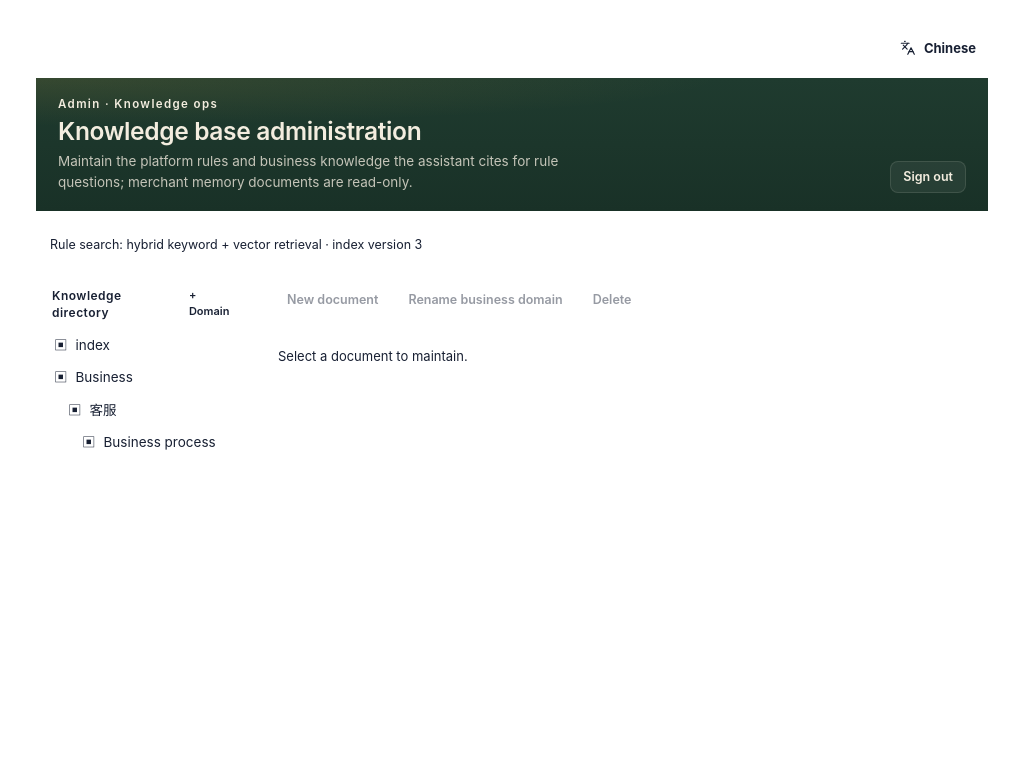
Test: KnowledgeBaseView en-US 下确定性文案为英文 › 新建文档对话框标题、标签与占位提示均为英文
Click the button "▣ Business process".
click(148, 443)  # box [46, 427, 250, 459]
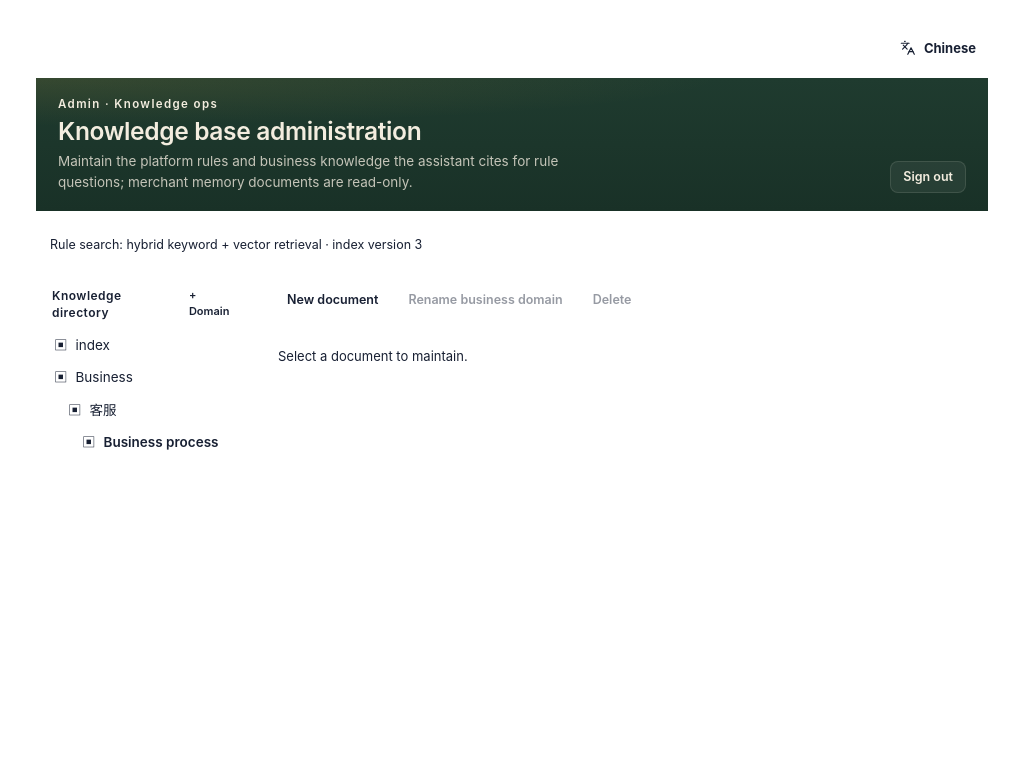
Click the button with test id "create-document".
click(333, 300)  # box [276, 285, 389, 315]
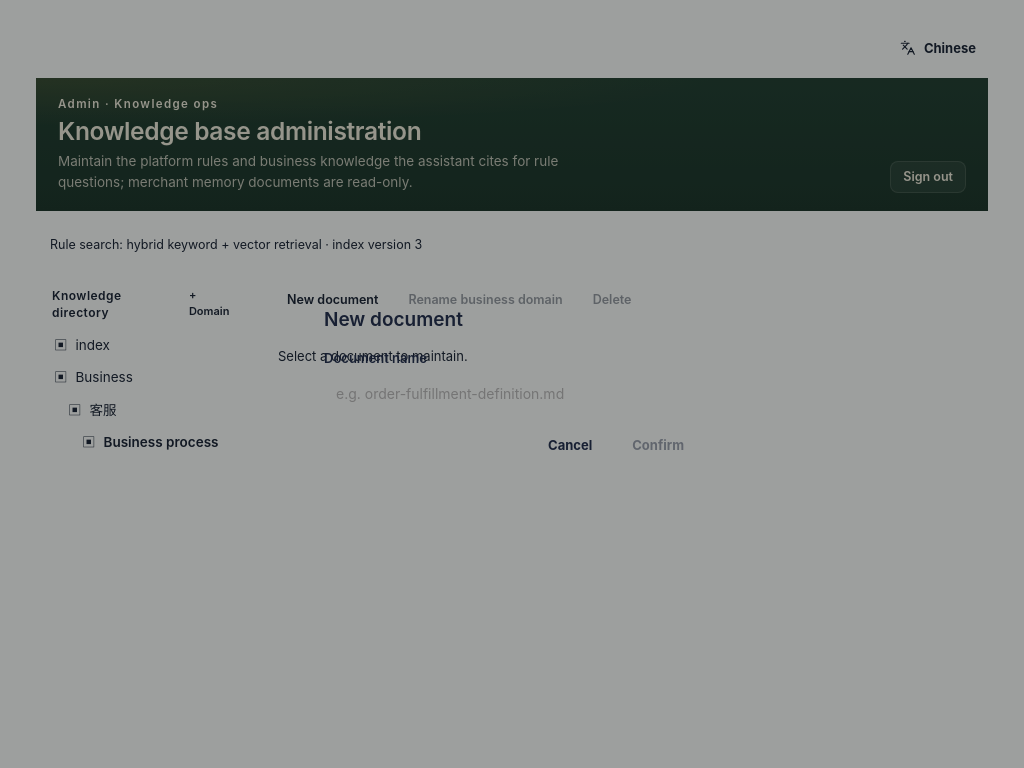
Now the heading "New document" is shown, box [324, 308, 463, 331]
Now the text "Document name" is shown, box [324, 350, 427, 366]
